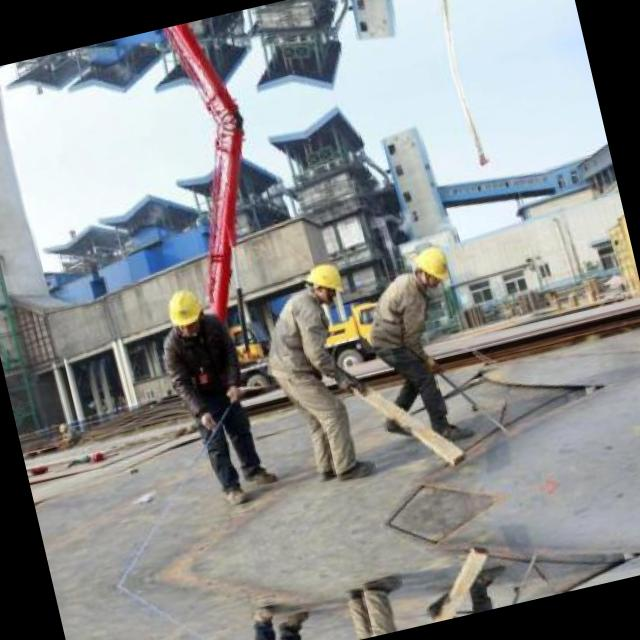helmet: (296, 255, 348, 308), (406, 238, 454, 292), (160, 284, 204, 338)
